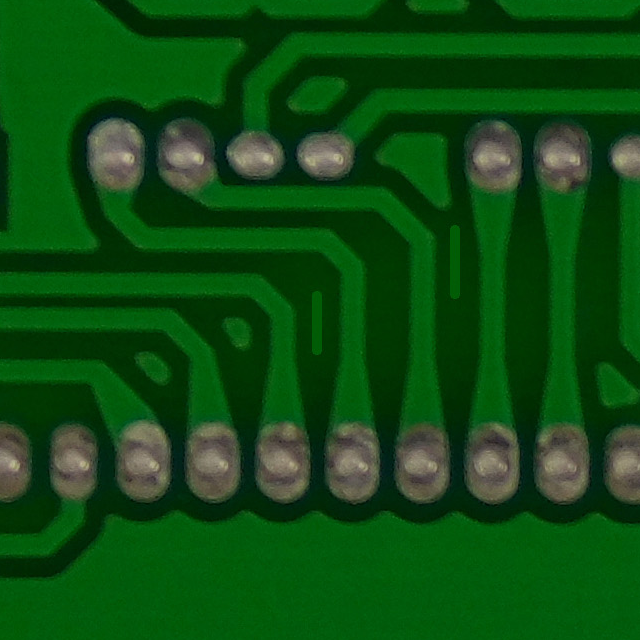spurious_copper: (289, 268, 351, 373), (429, 208, 477, 309)
